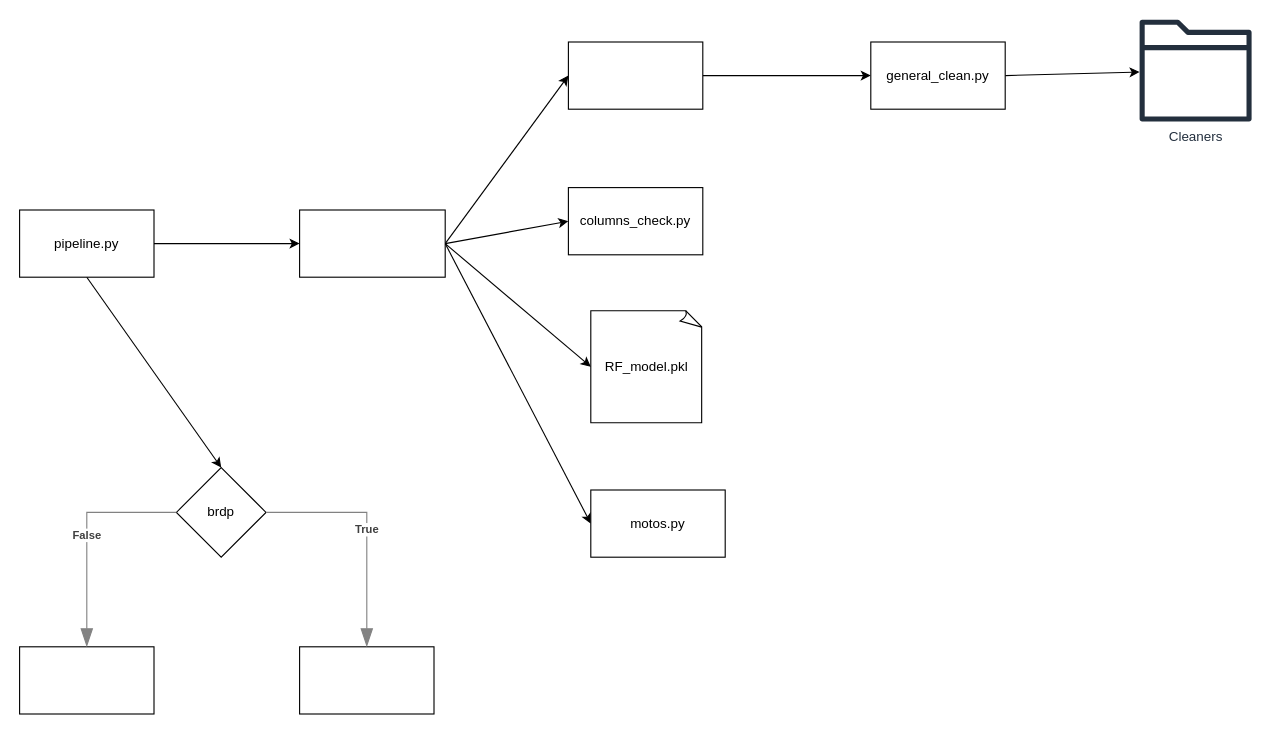
Image size: 1271x734. Some labels were removed from this diagram. The shapes that lost their labels are listed below. From the top down, each one's box as (x1, y1, x2, y2) in pixels, then its label:
(567, 41, 703, 109): clean_main.py
(298, 209, 445, 277): Precio_limpieza_RF.py
(18, 646, 154, 714): guardar excel
(298, 646, 434, 714): subir a sql
